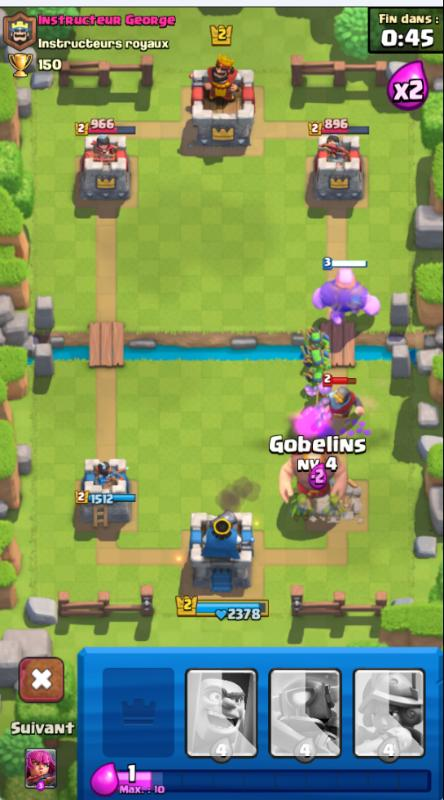chevalier: (321, 372, 367, 430)
geant: (312, 257, 380, 324)
gobelin: (292, 491, 316, 526), (321, 493, 346, 522)
gobelin_lances: (298, 327, 332, 354), (300, 366, 333, 393), (300, 346, 333, 372)
